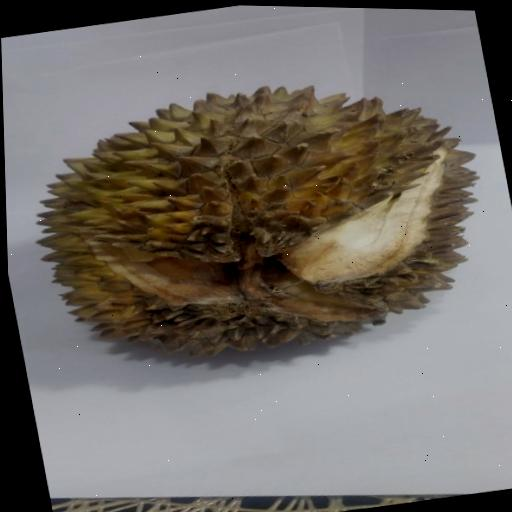rot: (1, 34, 512, 412)
